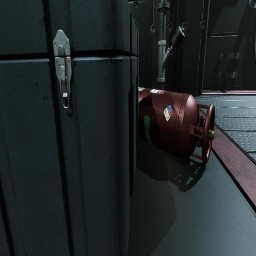NitrogenTank ,: (138, 87, 215, 164)
